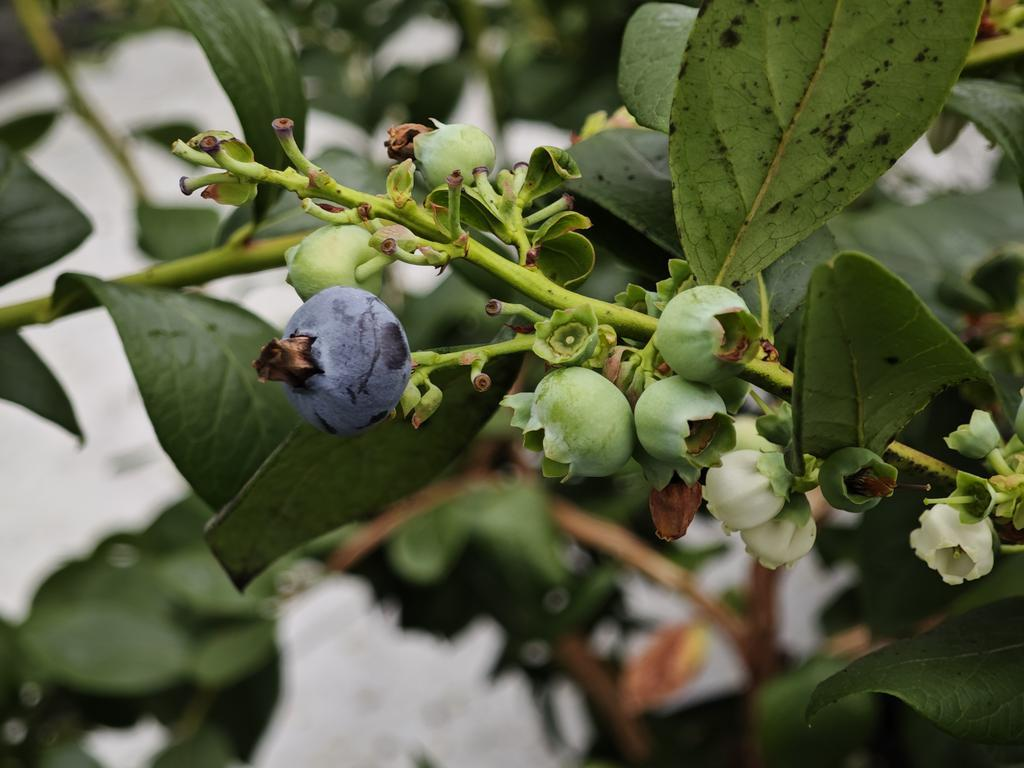RipeBlueBerry: (269, 281, 417, 440)
UnripeBlueBerry: (510, 365, 636, 487), (654, 283, 767, 387), (630, 379, 739, 475)
